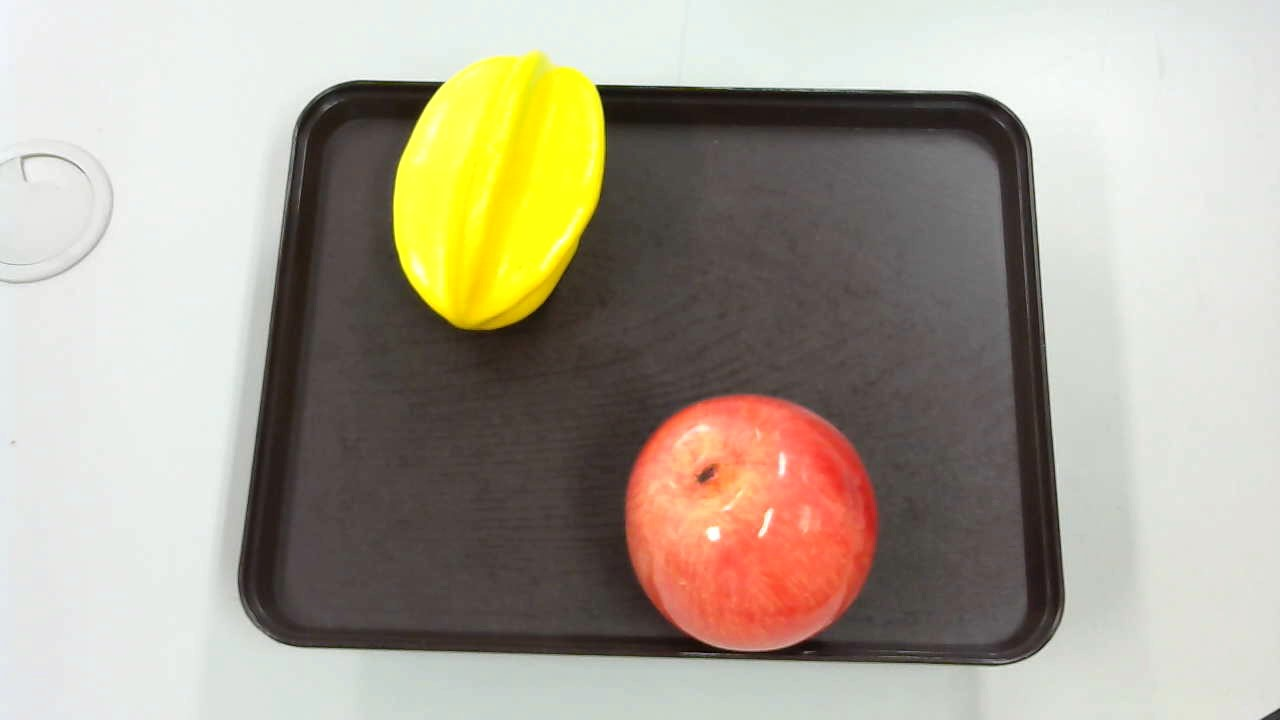red apple: (625, 395, 874, 651)
star fruit: (392, 47, 606, 339)
